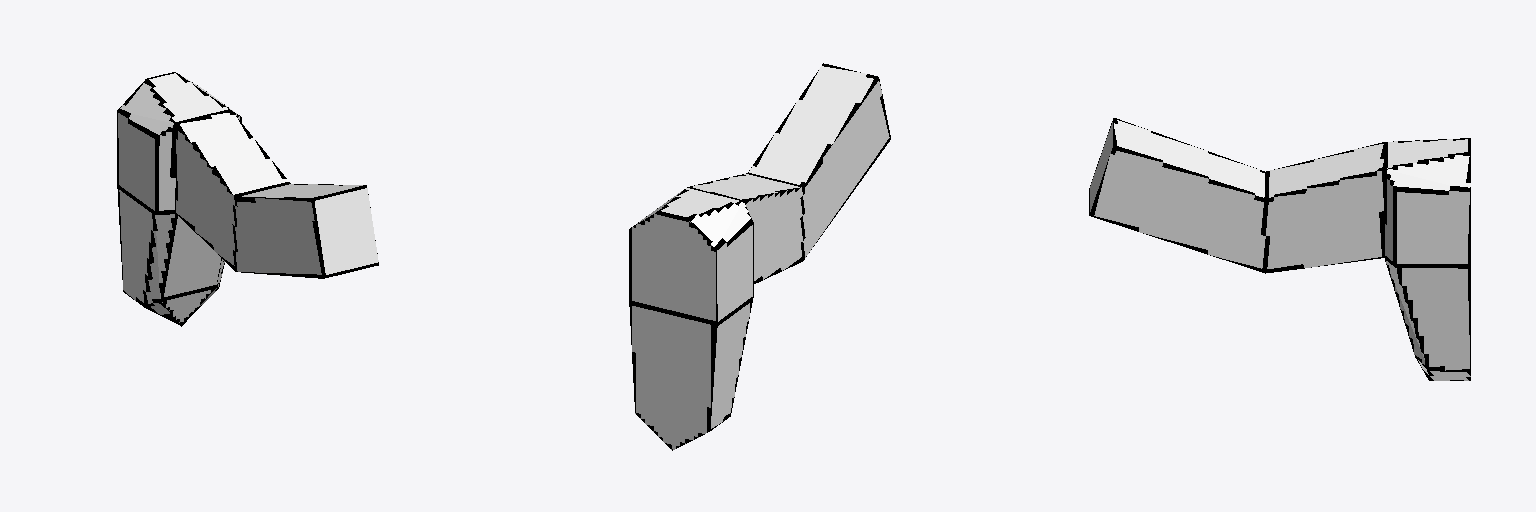
3 renders of one model, left to right at view 1: azimuth 30°, elevation 25°; view 2: azimuth 150°, elevation 25°; view 3: azimuth 270°, elevation 25°, orthographic.
Visible parts, largest first — view 1: Cube1; view 2: Cube1; view 3: Cube1.
Boxes of the visible parts, box(x1,y1,x2,y2) form: Cube1: box(117, 72, 378, 326); Cube1: box(629, 63, 890, 450); Cube1: box(1089, 118, 1470, 380).
Bounding box in the file's own units: 0.8968 × 2.48 × 3.43.
Materials: 1 (1 with a texture image).